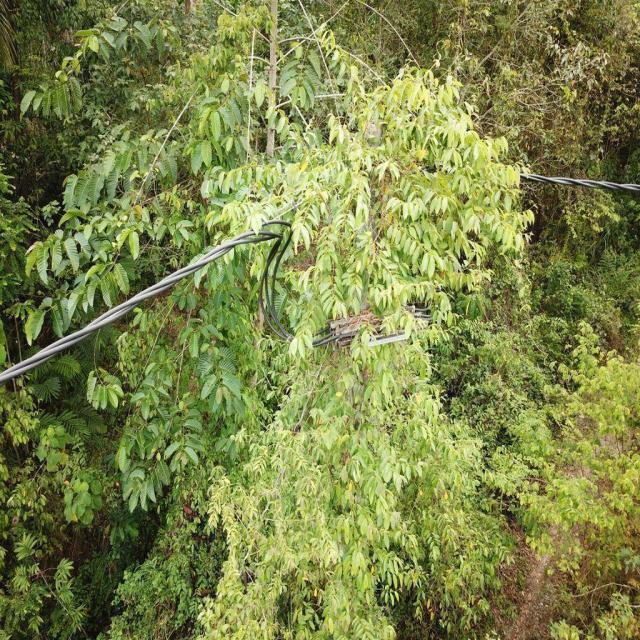critical vegetation: (238, 55, 534, 390)
